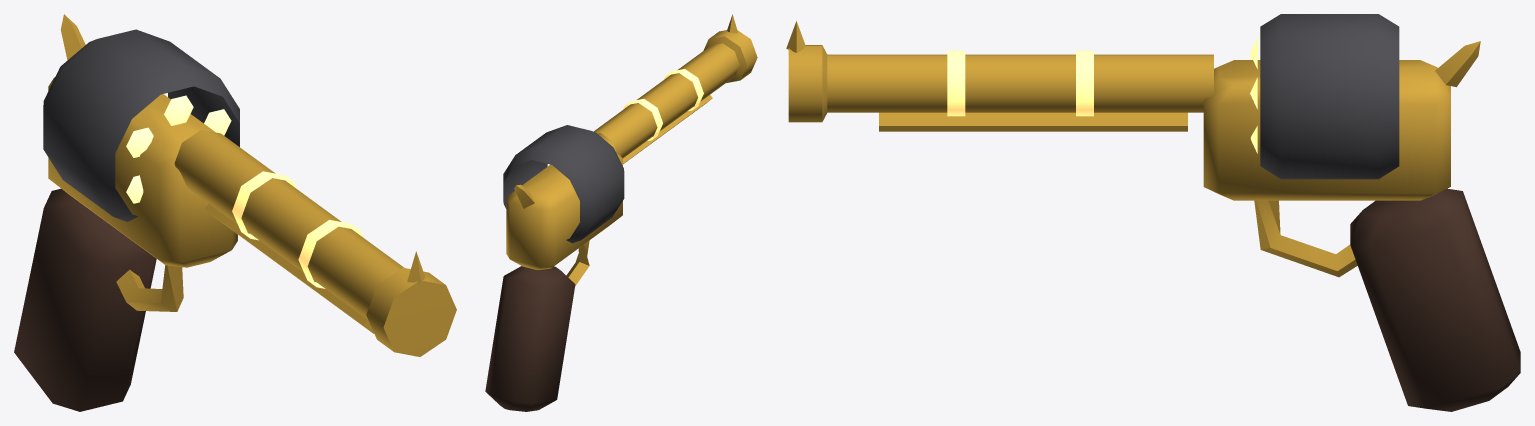
The model's file is sixgun-4.glb.
The picture shows the model from 3 angles, left to right: view 1: azimuth 30°, elevation 25°; view 2: azimuth 150°, elevation 25°; view 3: azimuth 270°, elevation 25°; orthographic projection. The views are drawn at different scales.
Parts seen in each view (by area): view 1: sixgun-4; view 2: sixgun-4; view 3: sixgun-4.
Boxes of the visible parts, <box> form: sixgun-4: <box>14,14,456,411</box>; sixgun-4: <box>485,14,757,411</box>; sixgun-4: <box>786,14,1520,411</box>.
Bounding box in the file's own units: 0.0638 × 0.1656 × 0.2851.
